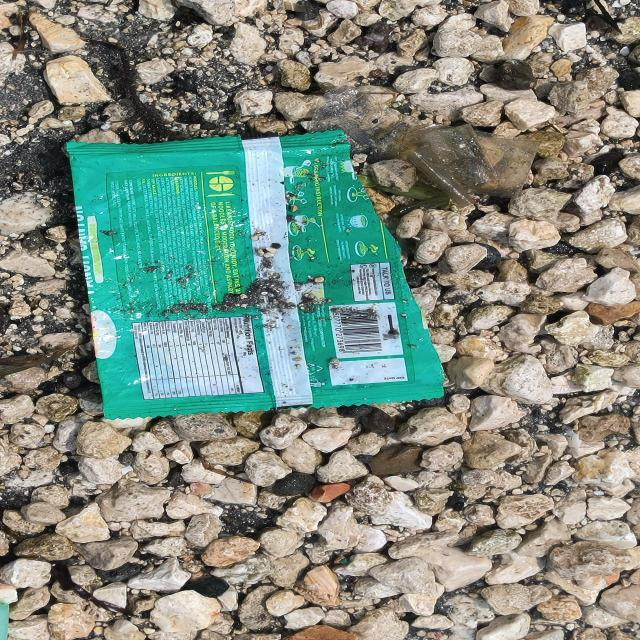plastic_waste: (65, 131, 449, 421)
